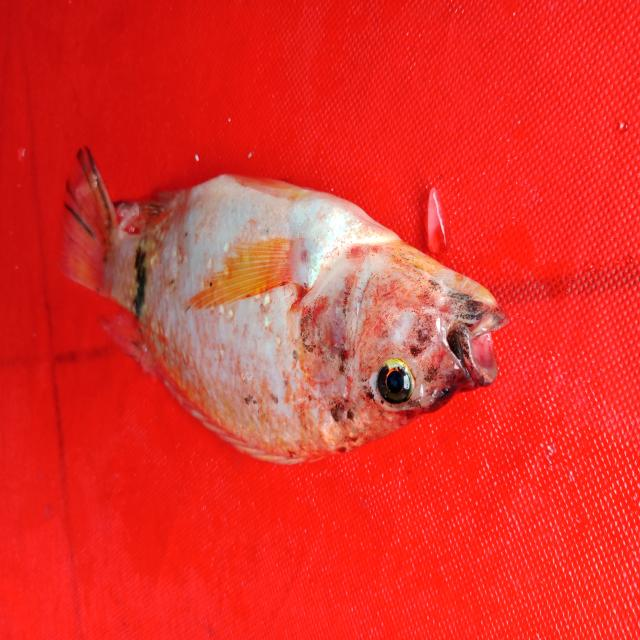ikan: (44, 94, 521, 477)
